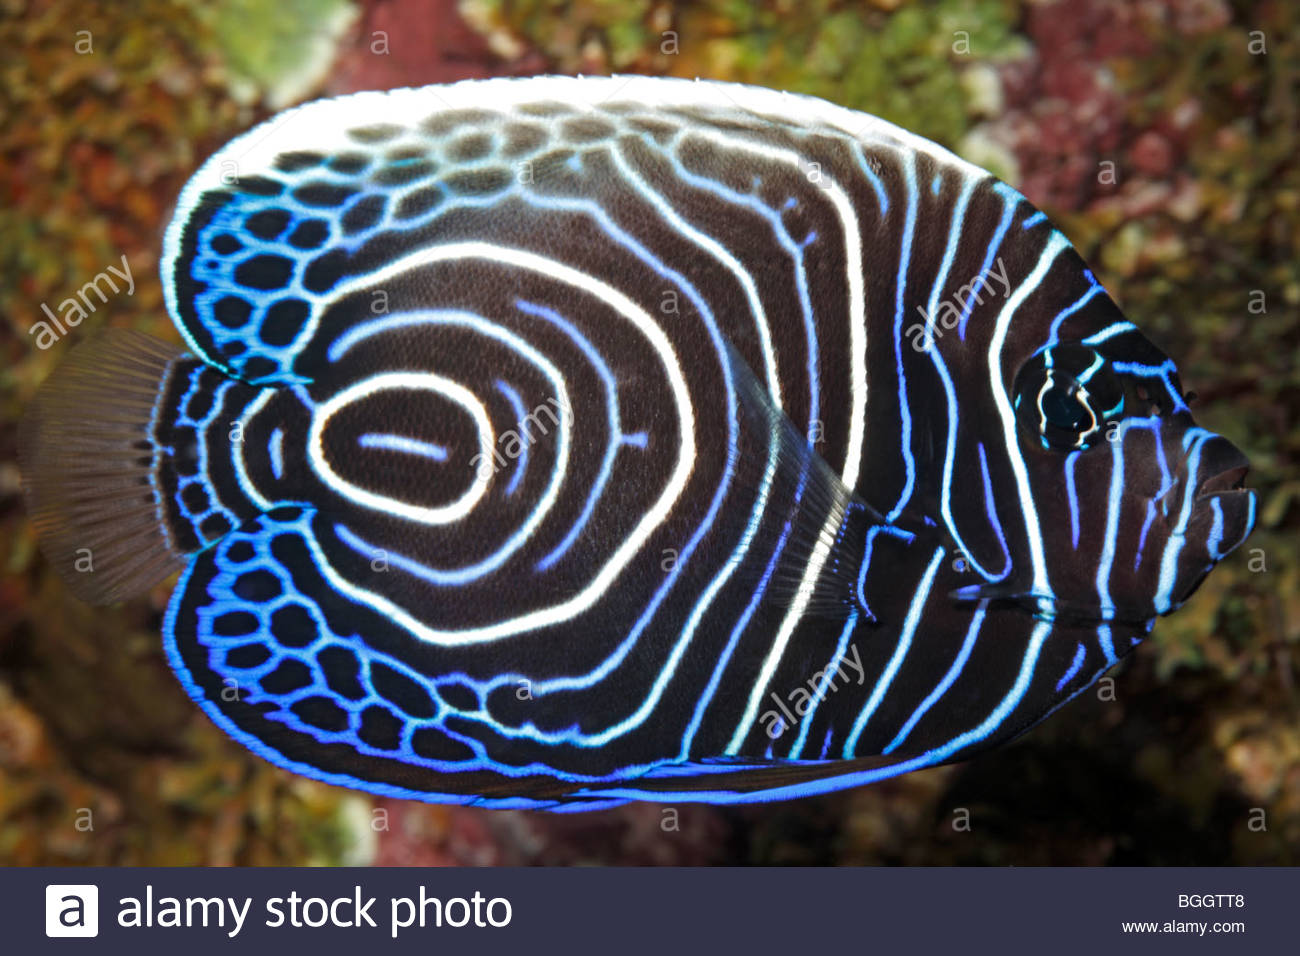Pomacanthus_imperator: (144, 47, 1267, 832)
